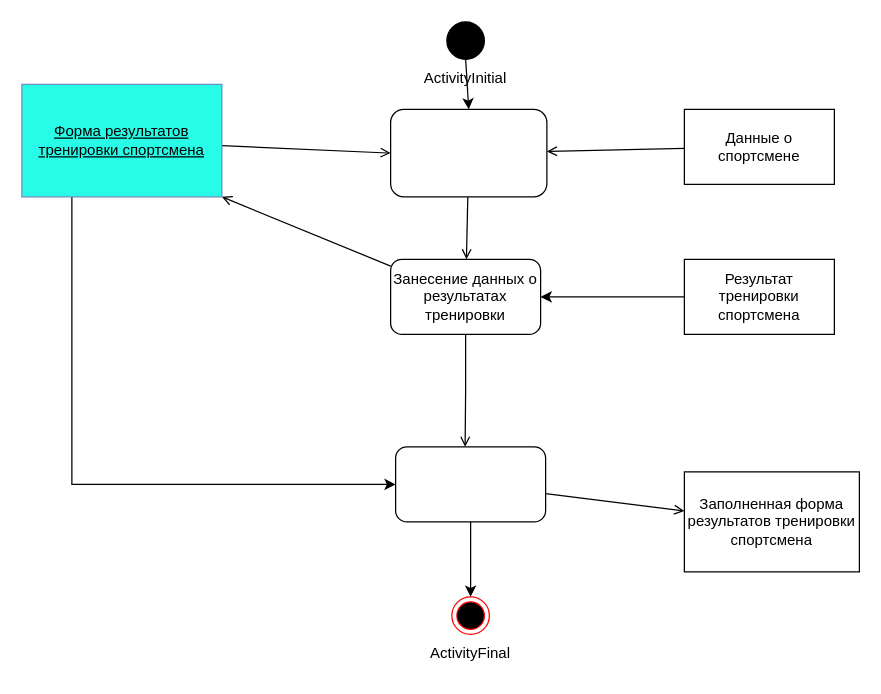
This 881x694 diagram has some shape labels left out. Here are the shapes that lost their labels. From the top down, the centre of each, then its label:
the point at 468,152: Формирование формы результатов тренировки спортсмена
the point at 470,484: Отправка данных на сервер
